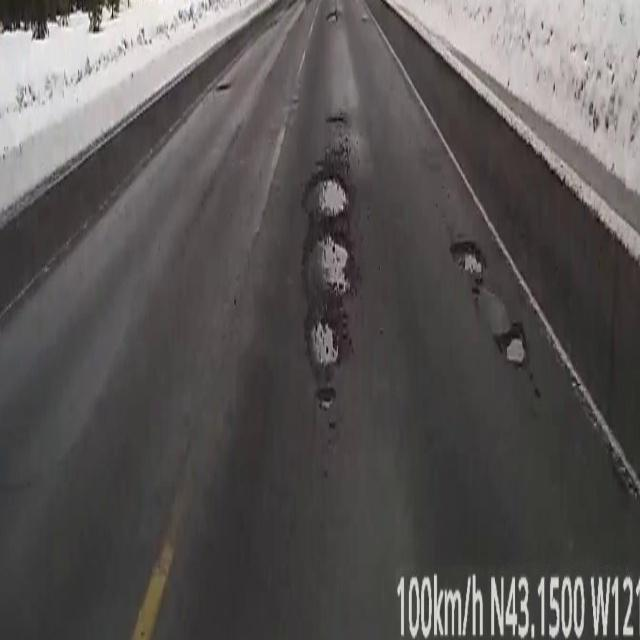pothole: (304, 170, 351, 409), (452, 244, 524, 364), (327, 14, 336, 21)
